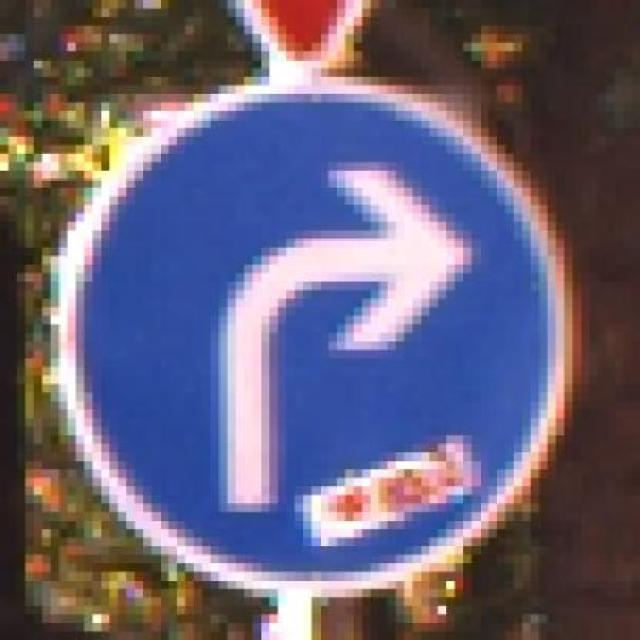Turn right ahead: (34, 76, 606, 615)
